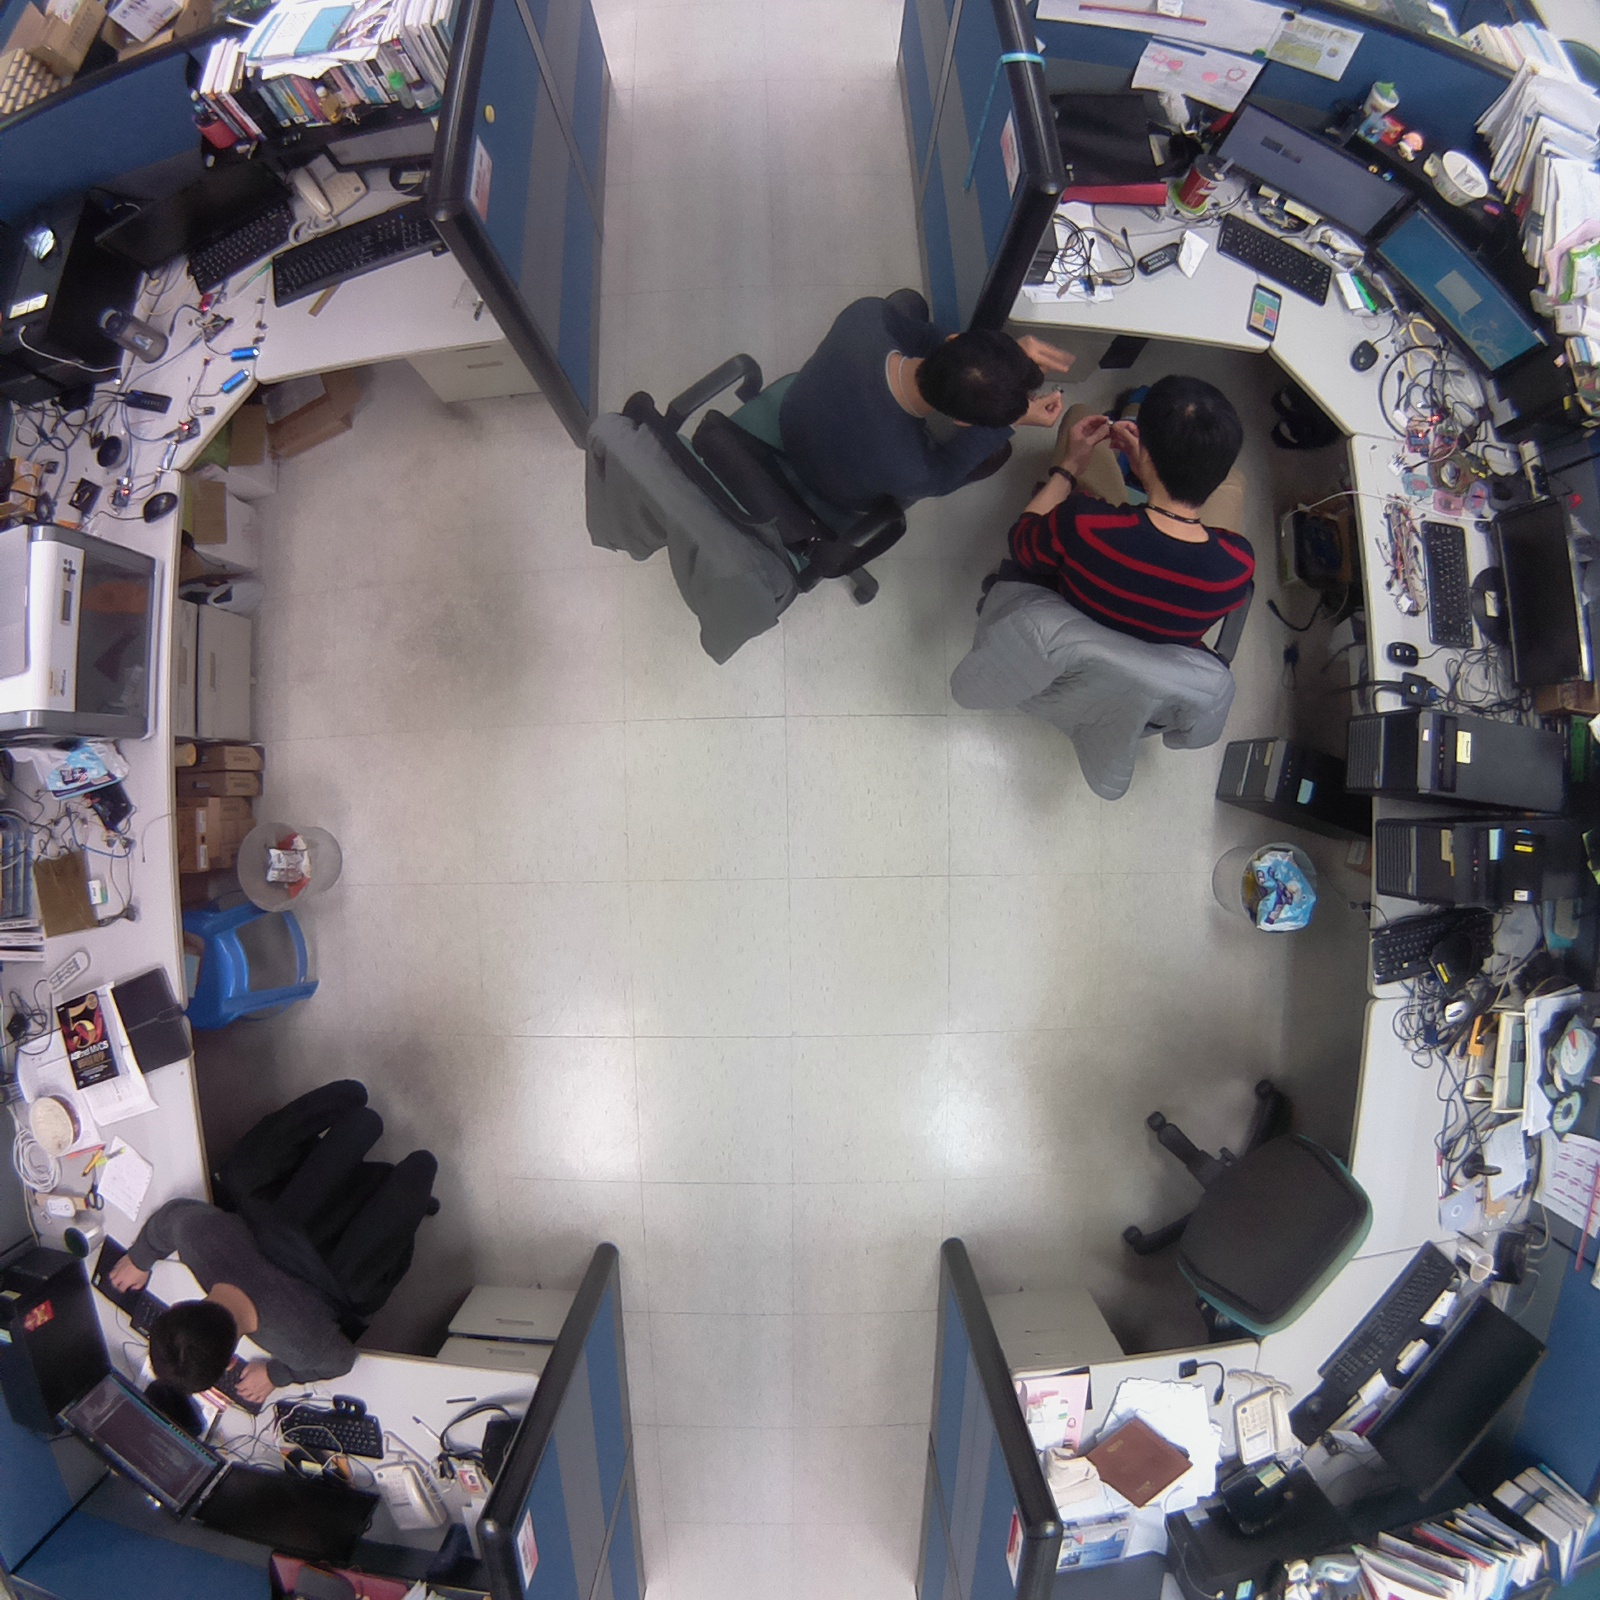chair: (1106, 1063, 1386, 1360)
head: (1125, 372, 1251, 510), (908, 323, 1049, 434), (138, 1289, 244, 1402)
sitting: (563, 275, 1058, 681), (942, 369, 1270, 814), (101, 1063, 460, 1414)
